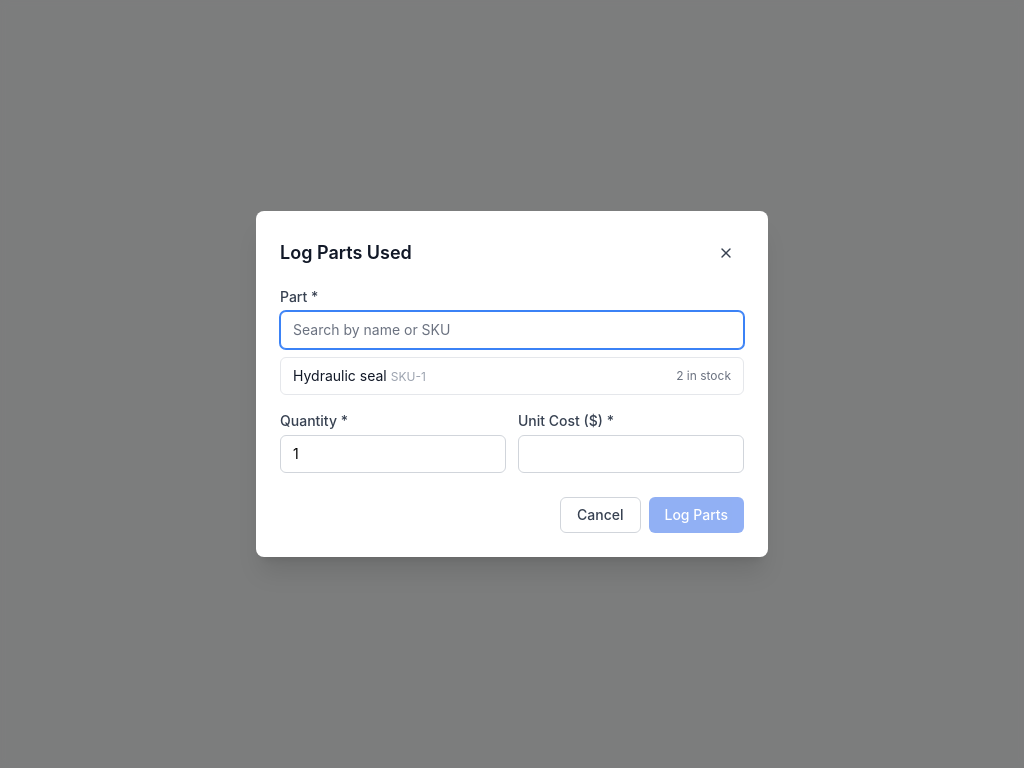
Test: PartLogModal › will not log more than is in stock
The width and height of the screenshot is (1024, 768).
Click the button "Hydraulic seal" at (340, 376), box [281, 358, 743, 394]
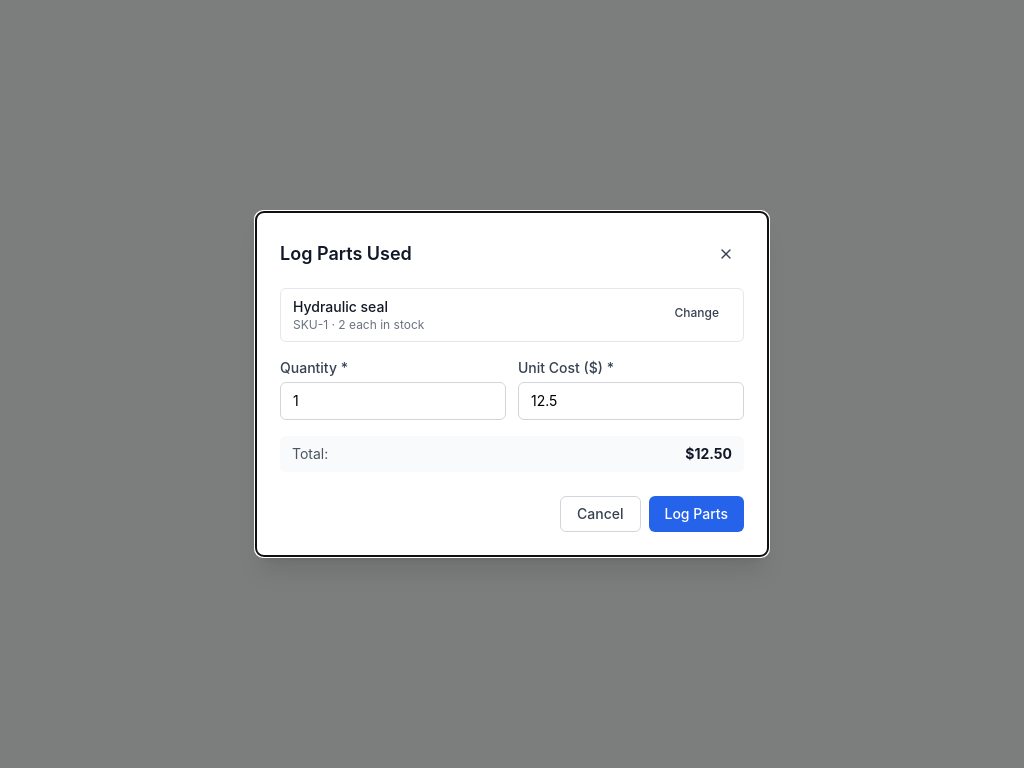
Clear the number field labelled "Quantity *" at (393, 401), box [280, 382, 506, 420]
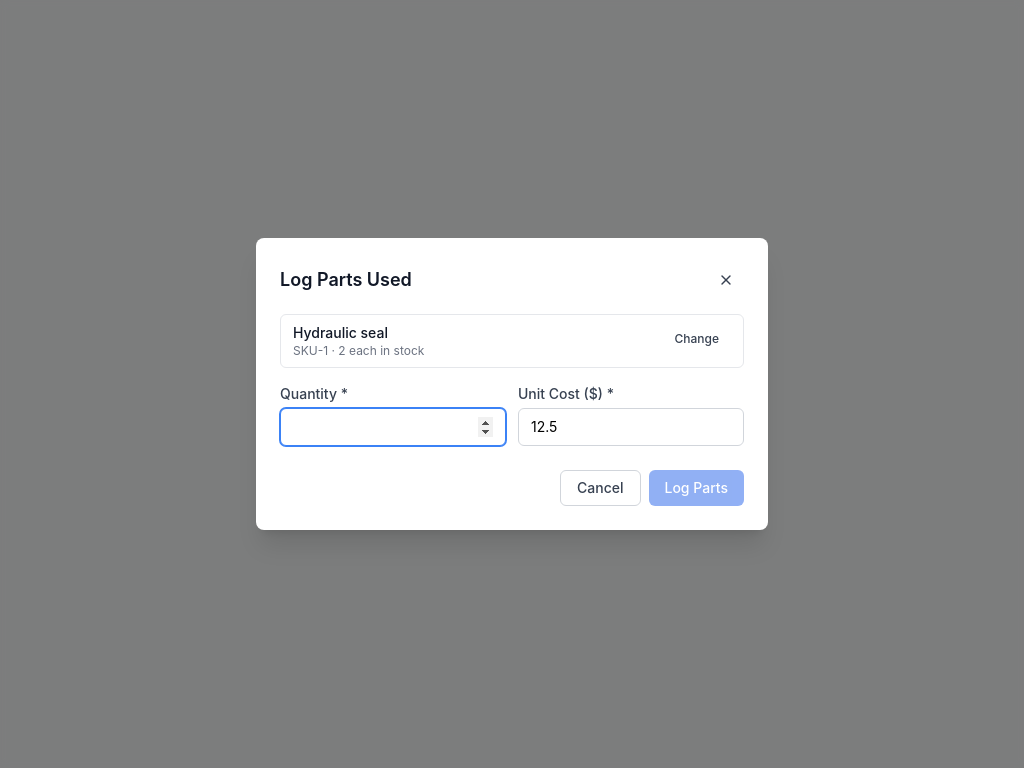
Type "3" into the number field labelled "Quantity *" at (393, 427), box [280, 408, 506, 446]
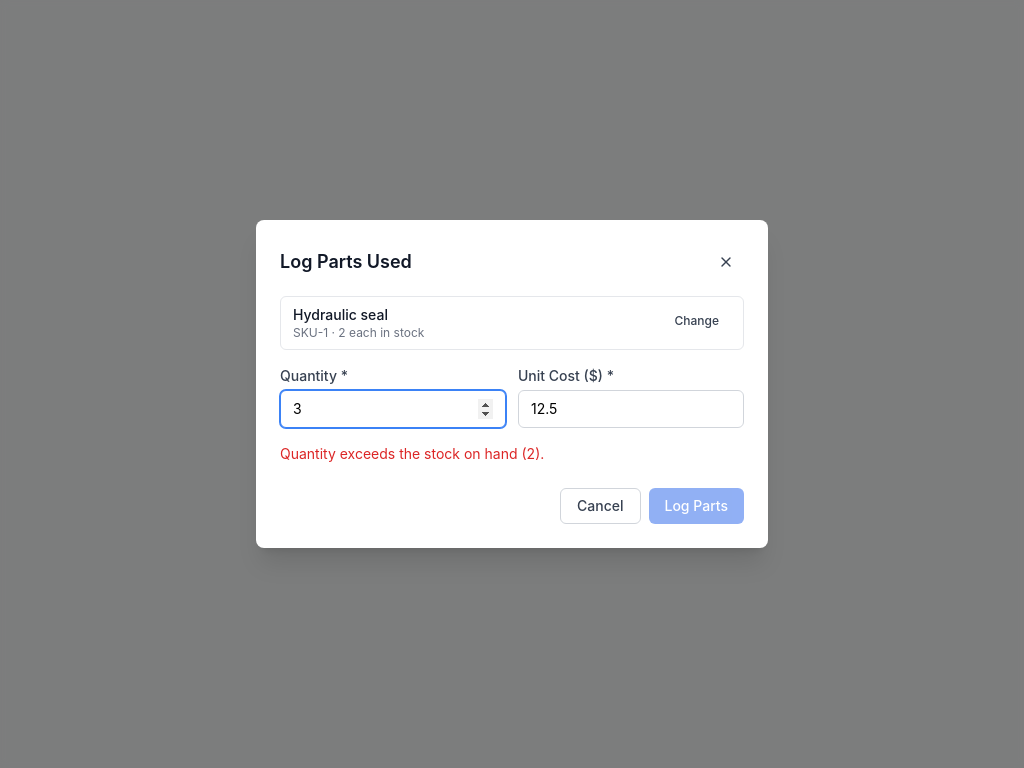
expect the button "Log Parts" is disabled: met, box [648, 488, 744, 524]
expect the message shows "exceeds the stock on hand (2)": met, box [280, 445, 544, 462]
